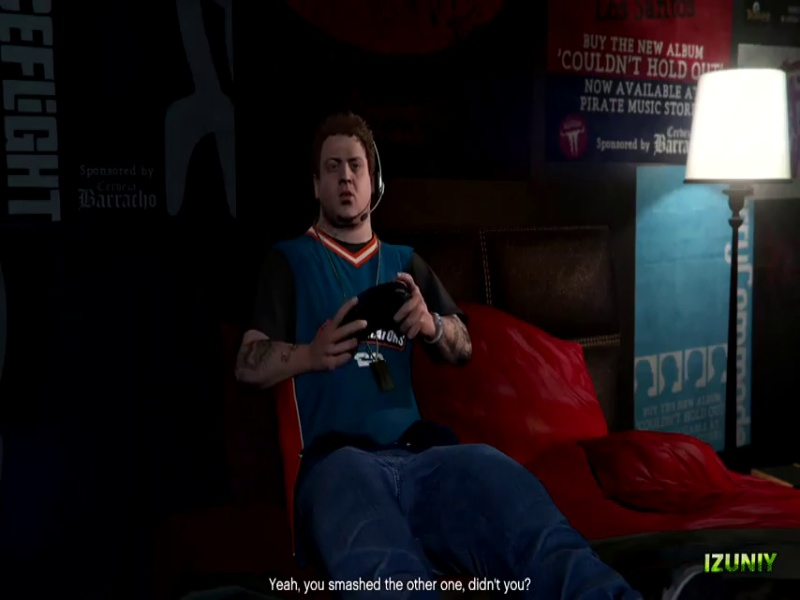human: (242, 107, 482, 531)
